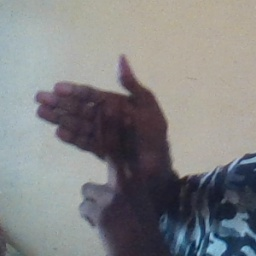N: (24, 38, 178, 222)
